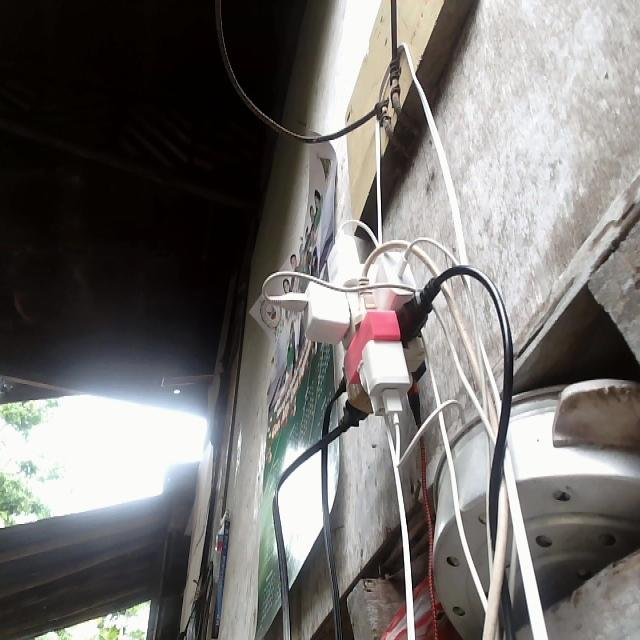-: (253, 204, 472, 509)
